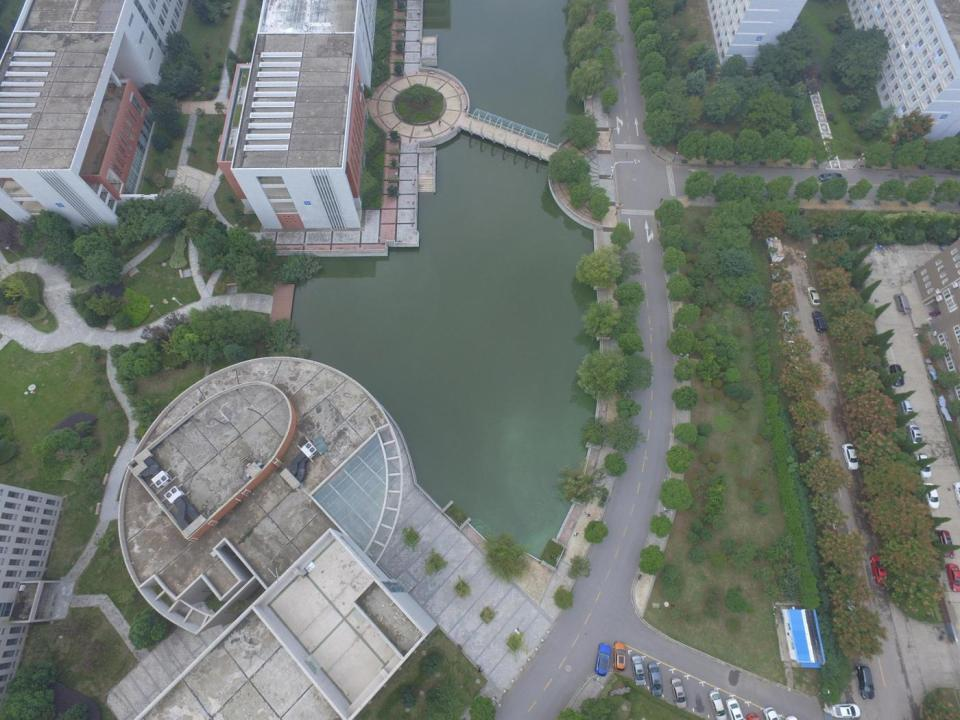car: (855, 664, 875, 700), (708, 690, 728, 720), (869, 555, 888, 585), (594, 643, 611, 676), (646, 662, 662, 697), (630, 654, 647, 686), (670, 677, 686, 709), (842, 444, 860, 470), (725, 698, 746, 720), (938, 531, 955, 557), (923, 483, 940, 509), (915, 454, 932, 479), (612, 642, 626, 672), (832, 703, 860, 718), (945, 564, 960, 592), (805, 432, 821, 457), (888, 364, 904, 387), (906, 424, 922, 446), (812, 311, 827, 333), (894, 294, 910, 314), (806, 286, 820, 306), (786, 340, 799, 361), (781, 311, 793, 333), (790, 366, 802, 388), (900, 400, 914, 418), (818, 172, 842, 182), (762, 707, 780, 720), (769, 264, 783, 280), (940, 244, 955, 252)
truck: (765, 237, 785, 263)
